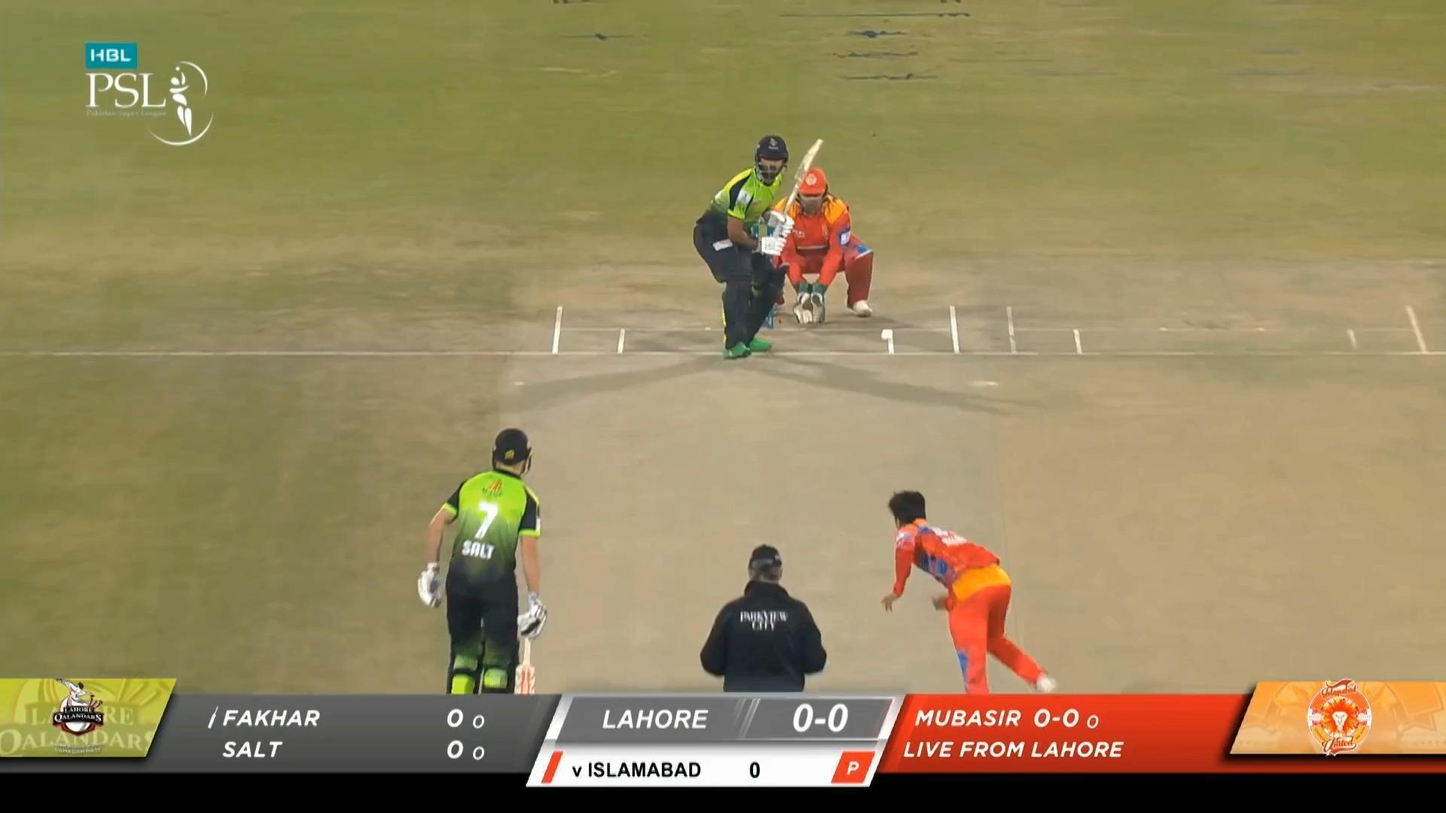BM 1: (692, 132, 826, 361)
BO: (879, 490, 1059, 694)
